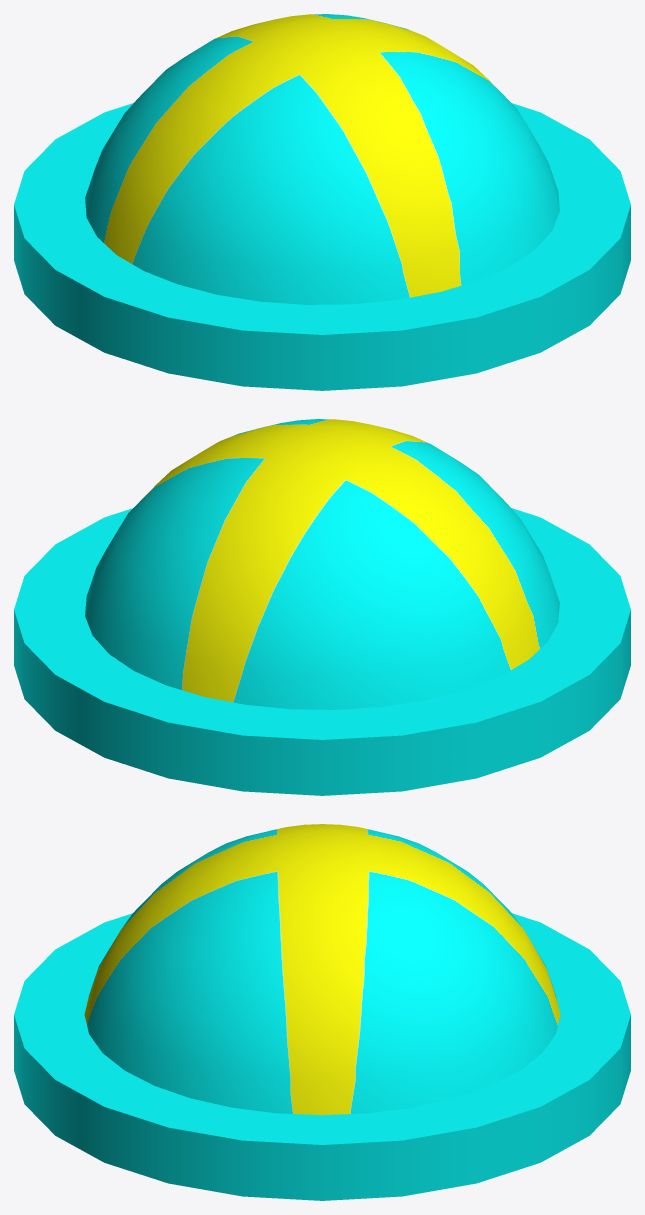
File: Button.FBX
The picture shows the model from 3 angles, top to bottom: view 1: azimuth 30°, elevation 25°; view 2: azimuth 150°, elevation 25°; view 3: azimuth 270°, elevation 25°; orthographic projection.
Visible parts, largest first — view 1: Sphere001; view 2: Sphere001; view 3: Sphere001.
Boxes of the visible parts, left/top/right/bottom form: Sphere001: left=14, top=14, right=630, bottom=390; Sphere001: left=14, top=419, right=630, bottom=795; Sphere001: left=14, top=824, right=630, bottom=1200.
Size of the model in its own units: 100 by 40 by 100.
1 material, 1 textured.
